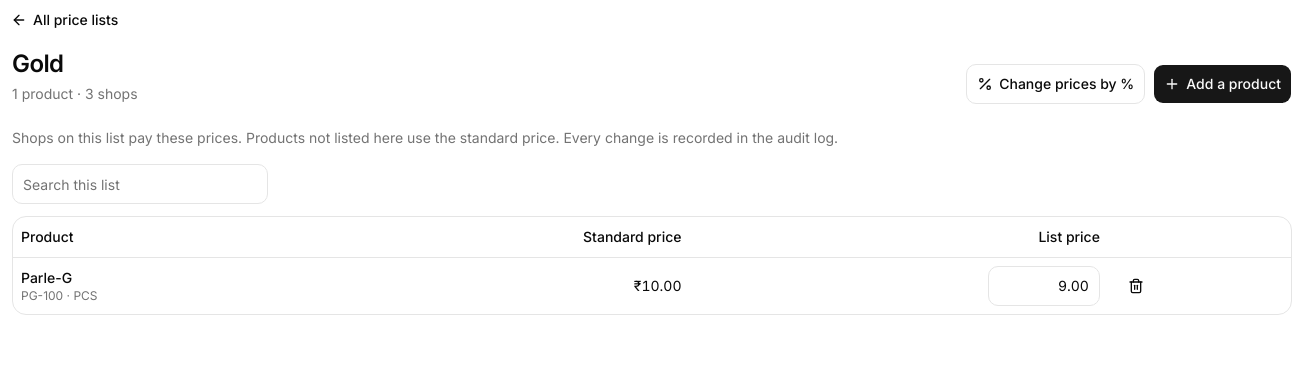
Test case: Price list items › saves an edited list price as the string typed and shows a free-goods warning
Step 1. Clear the field named "List price for Parle-G" → (1044, 286), box [988,266,1100,306]
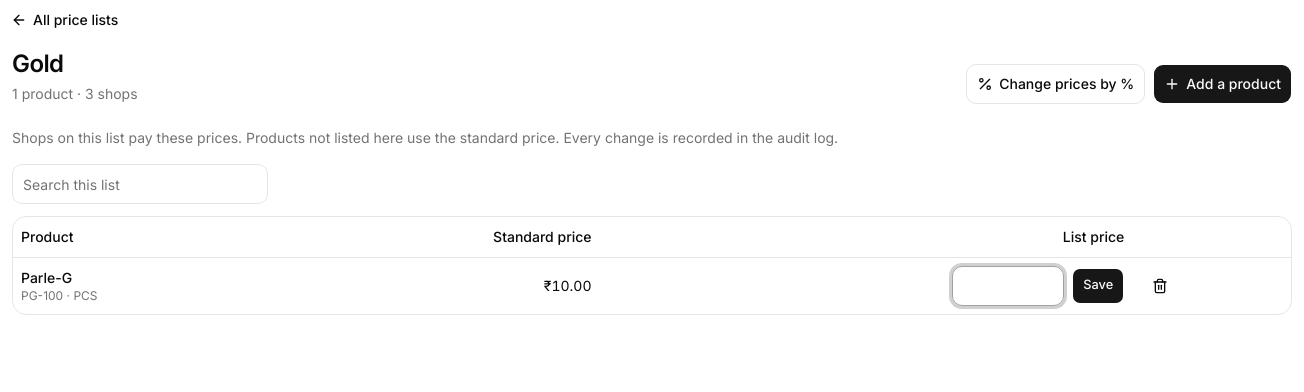
Step 2. Type "1,008.50" into the field named "List price for Parle-G" → (1008, 286), box [952,266,1064,306]
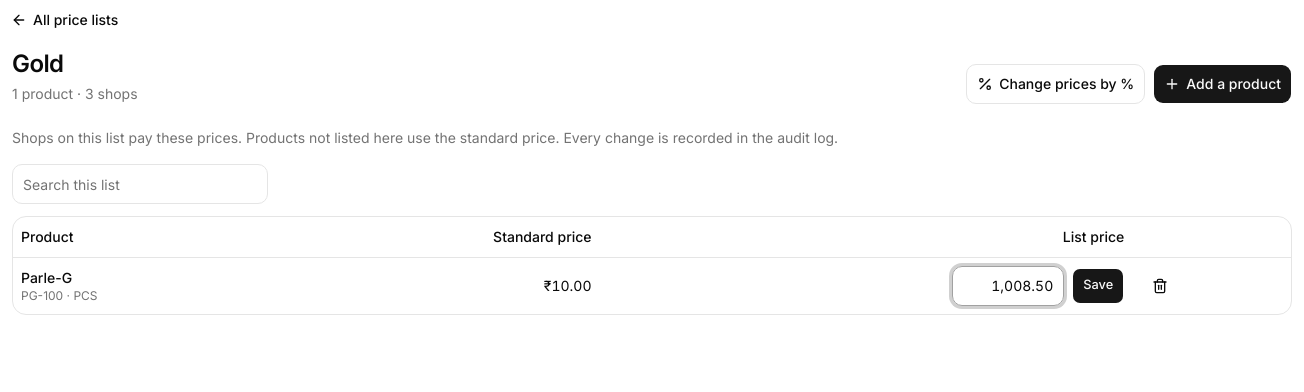
Step 3. Click the button "Save" → (1098, 286), box [1072,268,1124,304]
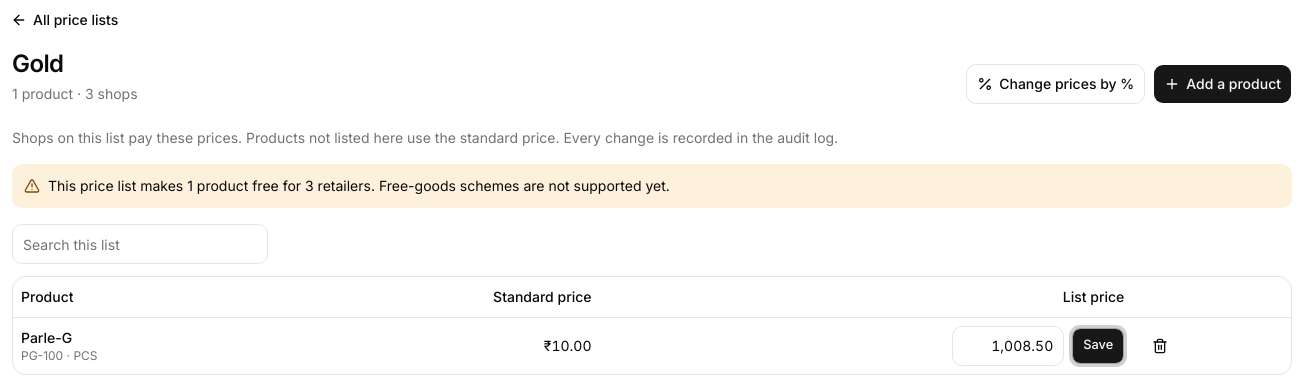
Now the text "This price list makes 1 product free for 3 retailers. Free-goods schemes are not supported yet." is shown, box [48,177,670,194]
